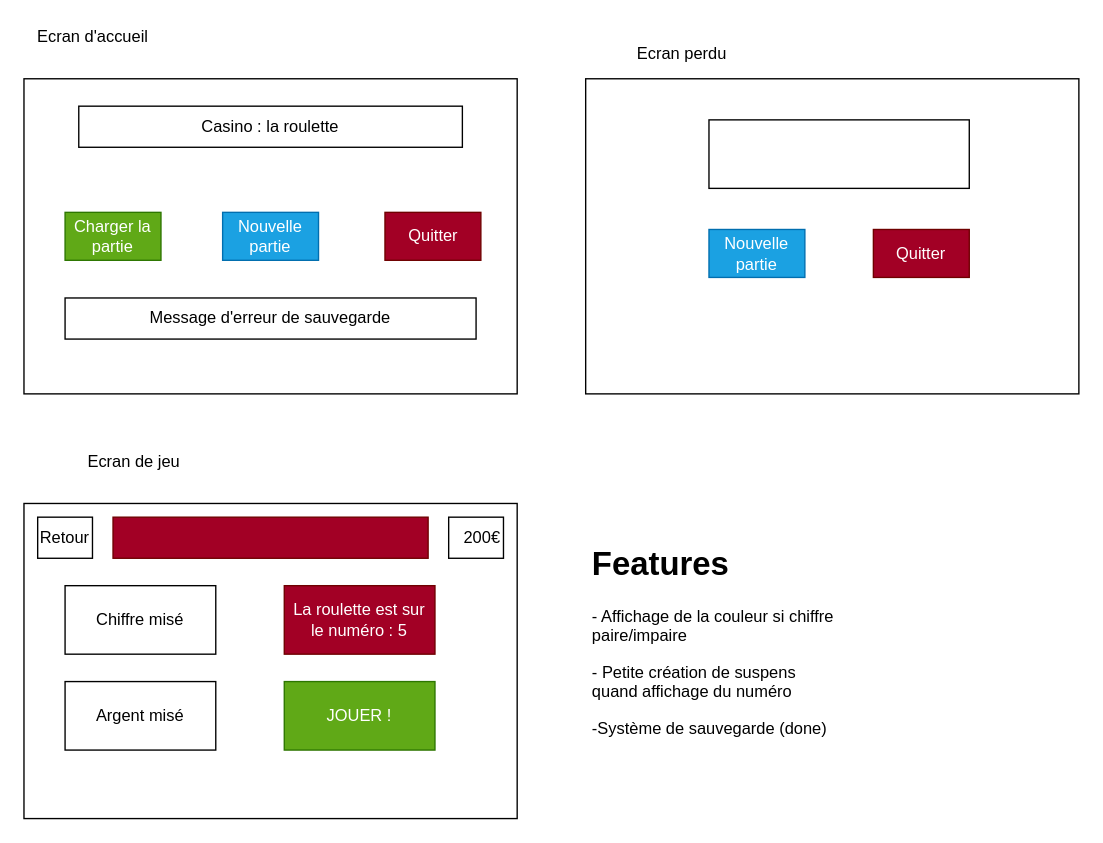
This 1103x843 diagram has some shape labels left out. Here are the shapes that lost their labels. From the top down, the centre of each, then its label:
(838,153): Tu n'as plus d'argent !
(270,537): Message d'information
